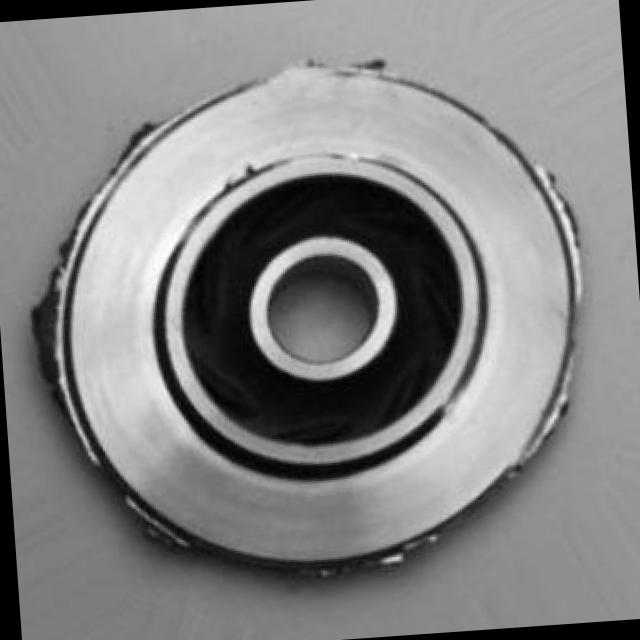Defect: (12, 269, 77, 375)
